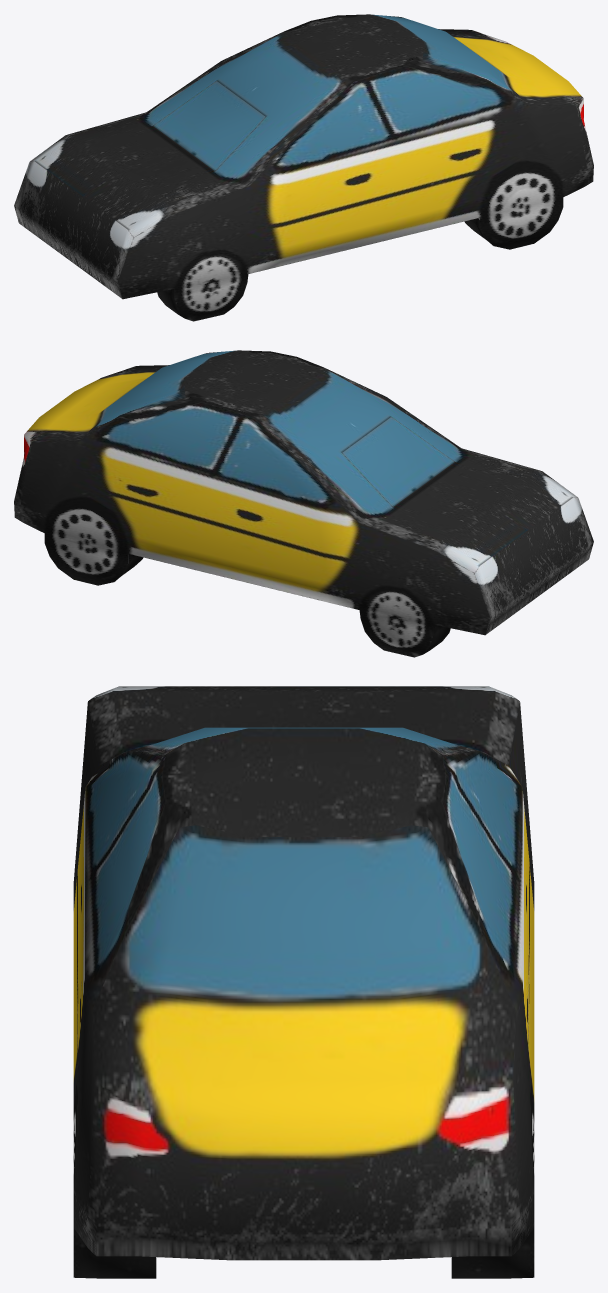
File: oneTaxi3.fbx
The picture shows the model from 3 angles, top to bottom: view 1: azimuth 30°, elevation 25°; view 2: azimuth 150°, elevation 25°; view 3: azimuth 270°, elevation 25°; orthographic projection. The views are drawn at different scales.
Parts seen in each view (by area): view 1: Cube.1290; view 2: Cube.1290; view 3: Cube.1290.
Part boxes in pixels (x1,y1,x2,y2): Cube.1290: (14,14,593,321); Cube.1290: (14,350,593,657); Cube.1290: (73,686,534,1278).
Size of the model in its own units: 3.78 by 1.39 by 1.55.
1 material, 1 textured.
